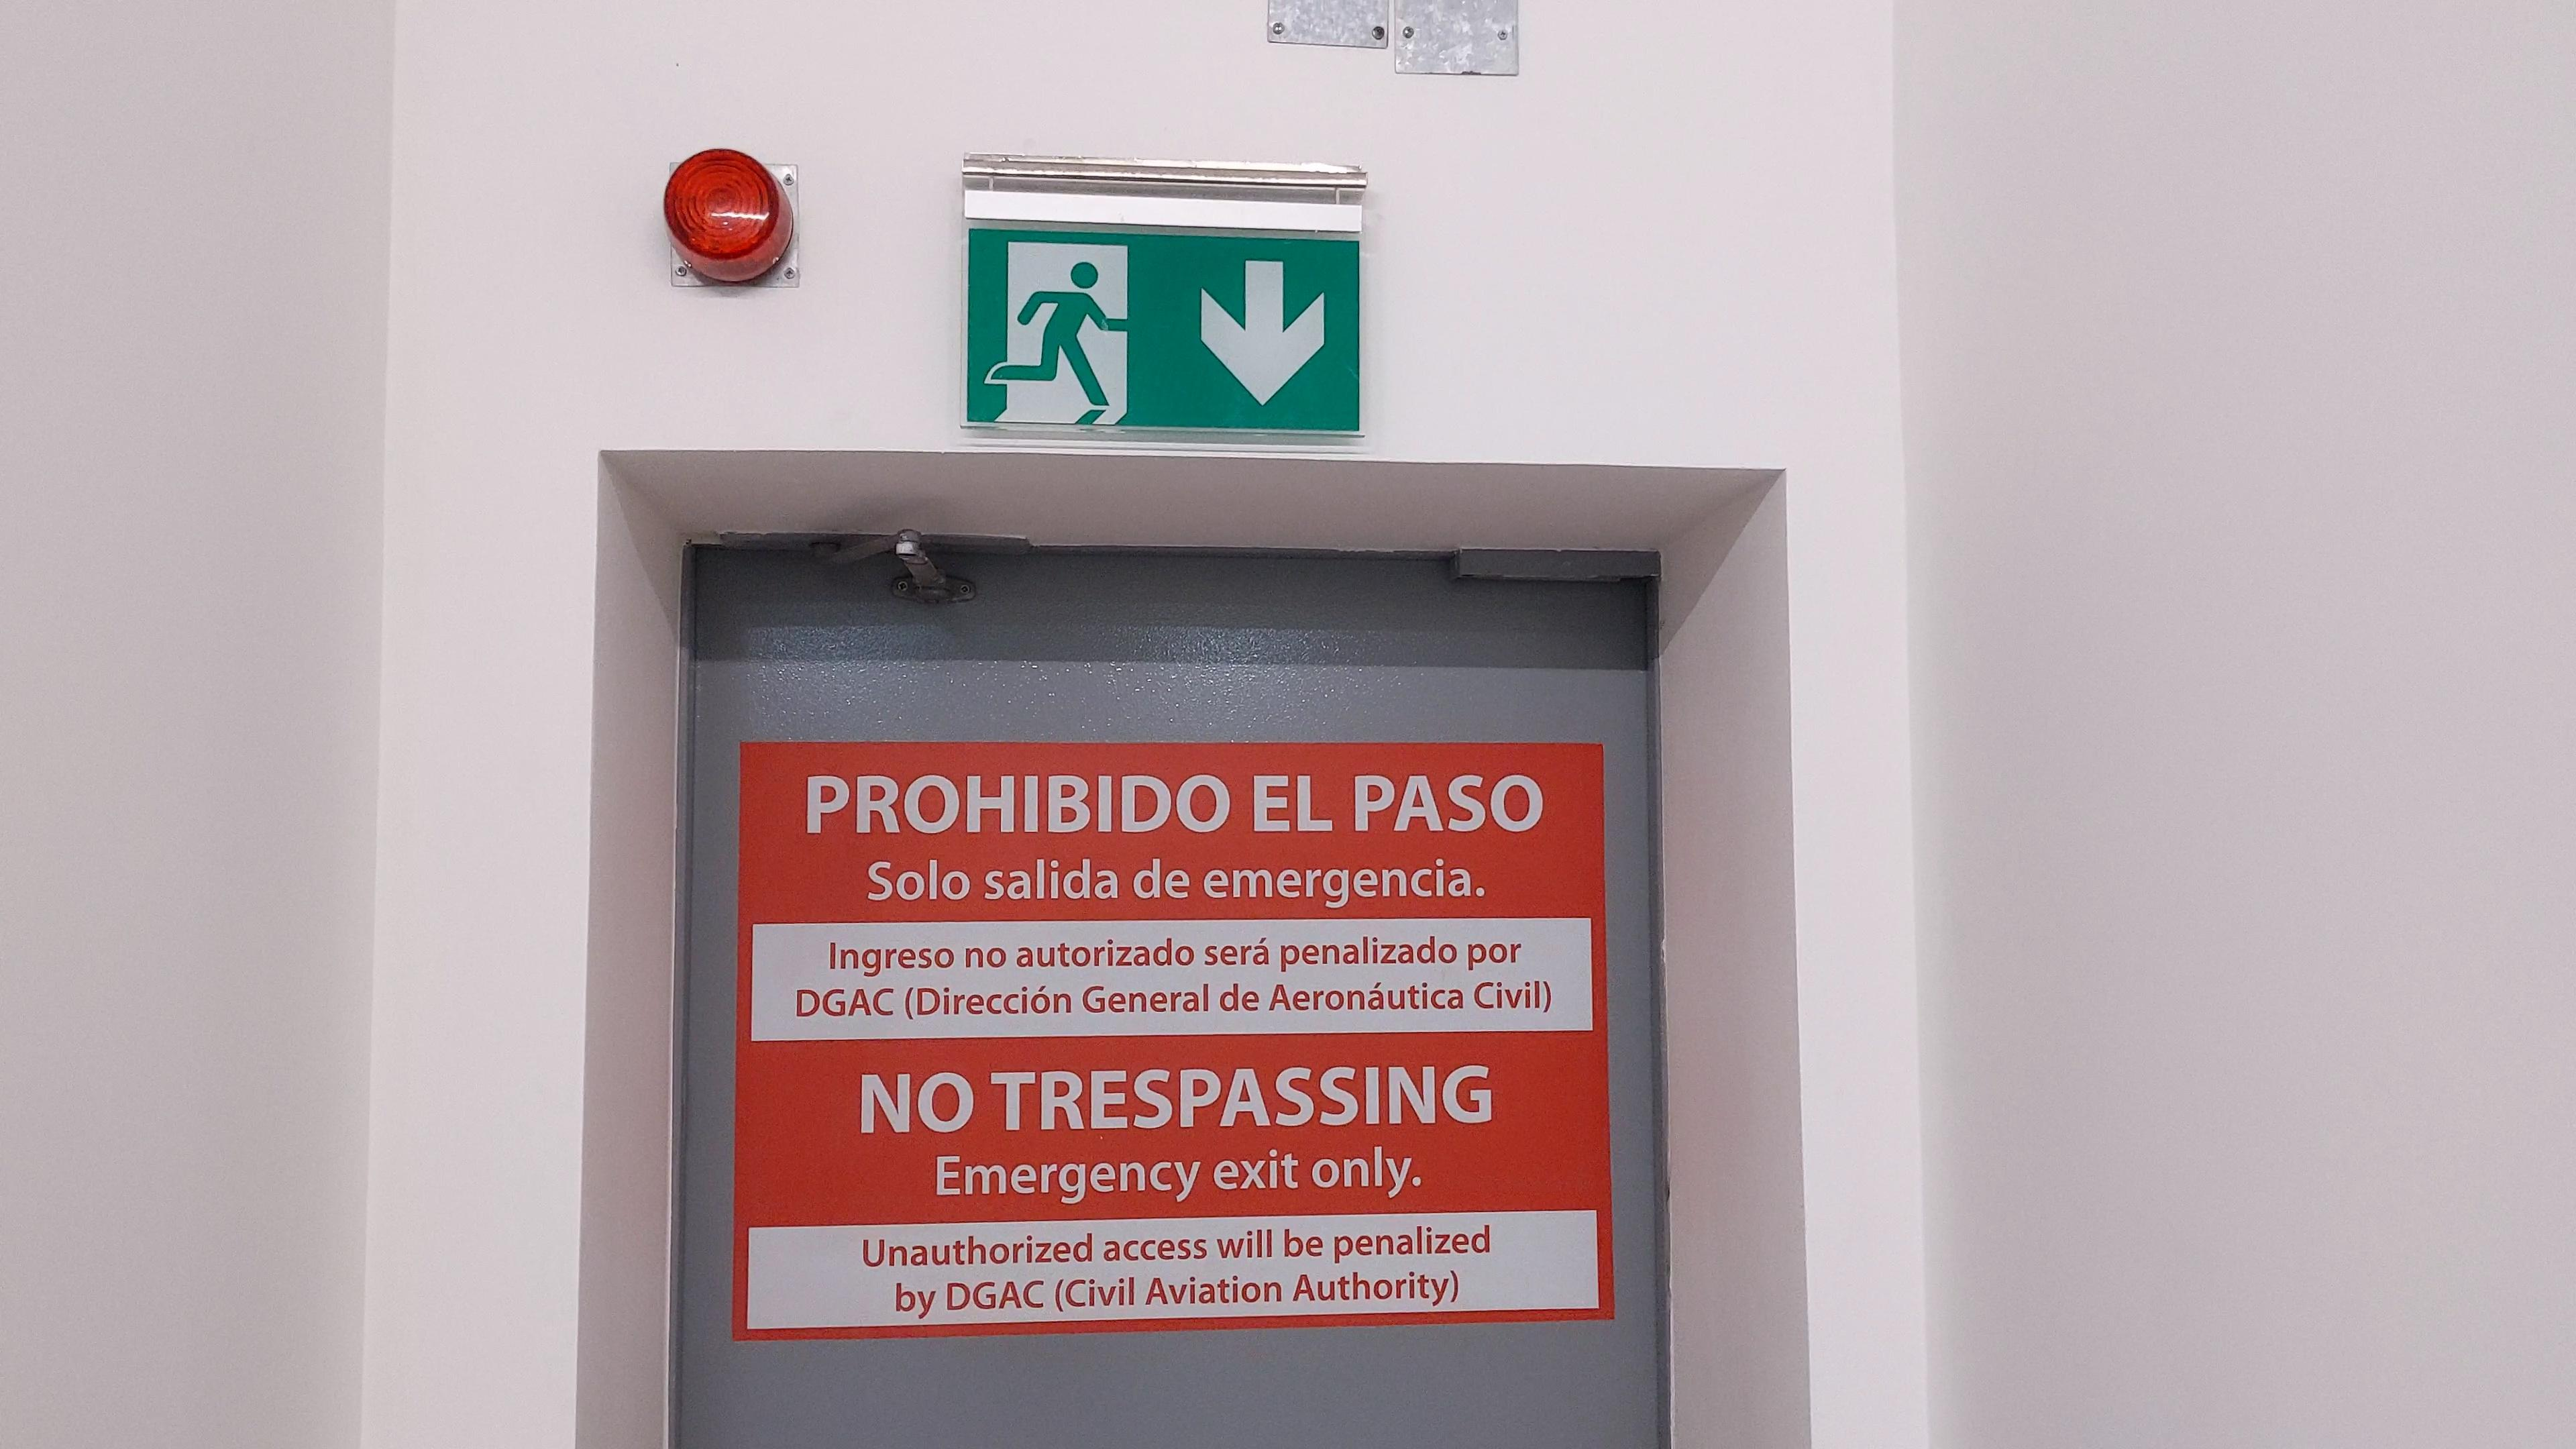emergency down arrow: (1191, 249, 1334, 410)
emergency exit: (978, 234, 1141, 432)
no trespassing: (734, 731, 1617, 1345)
